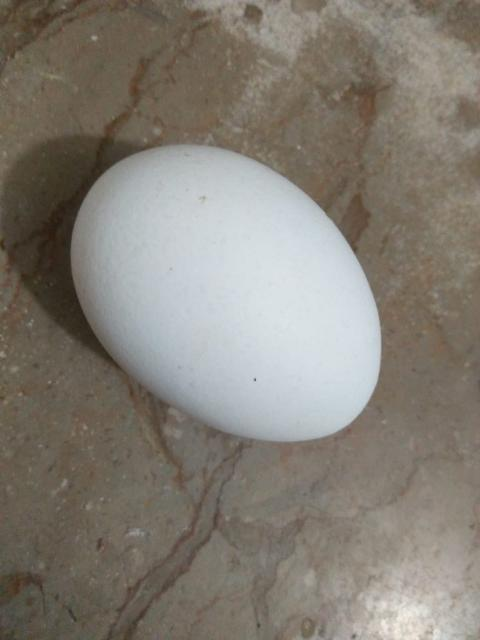Sano: (68, 141, 383, 445)
